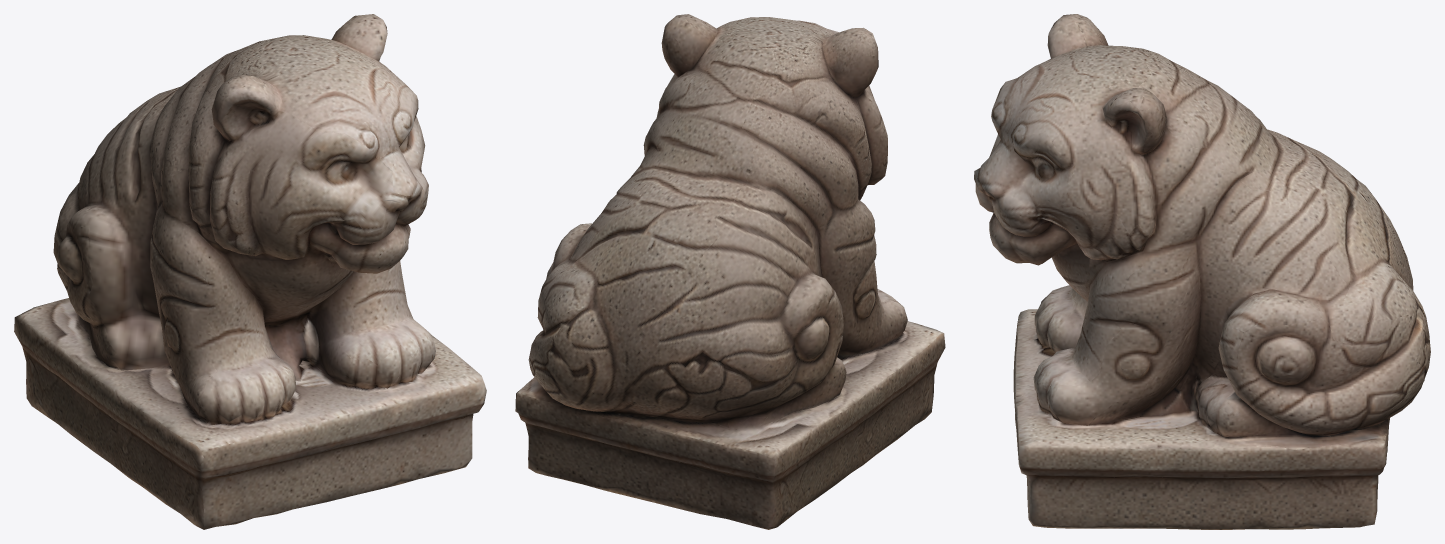
File: 경복궁_석상_백호.glb
3 views of the same model, side by side, from view 1: azimuth 30°, elevation 25°; view 2: azimuth 150°, elevation 25°; view 3: azimuth 270°, elevation 25° (orthographic). The views are drawn at different scales.
Parts seen in each view (by area): view 1: texture_mapping; view 2: texture_mapping; view 3: texture_mapping.
Boxes of the visible parts, box(x1,y1,x2,y2) form: texture_mapping: box(14, 14, 486, 529); texture_mapping: box(515, 14, 945, 529); texture_mapping: box(974, 14, 1430, 529).
Size of the model in its own units: 0.747 by 1 by 1.
1 material, 1 textured.
